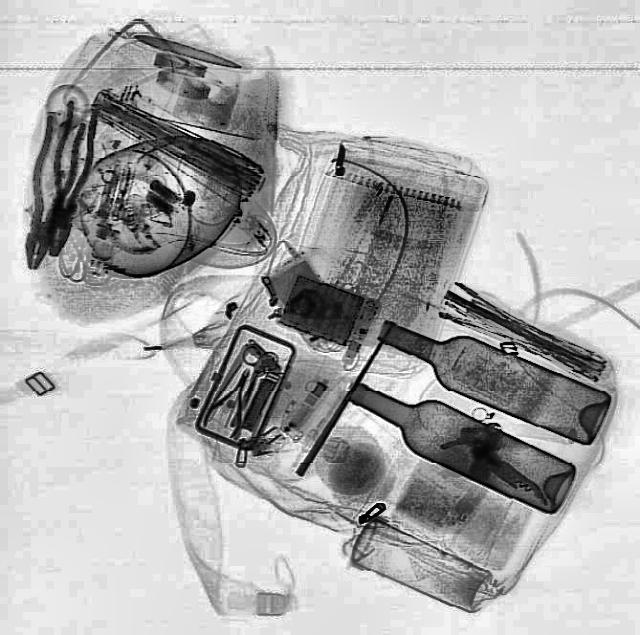Pliers: (7, 114, 89, 270), (32, 96, 106, 256), (196, 364, 264, 440)
Scissors: (220, 342, 278, 410)
